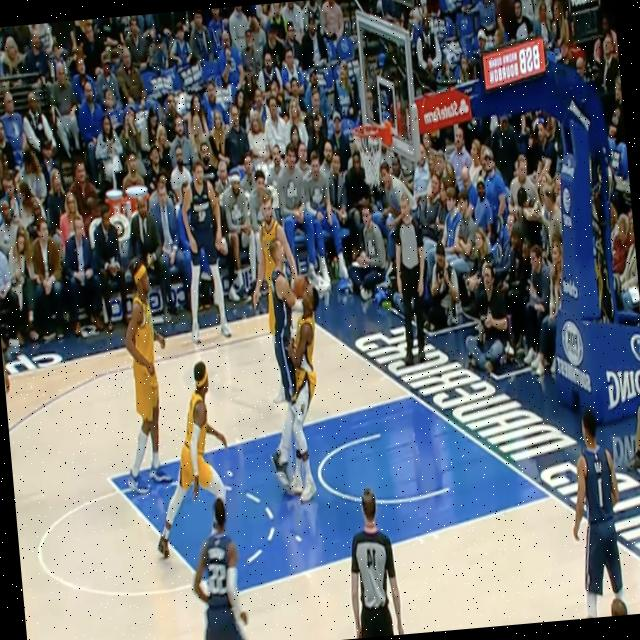Foul: (249, 238, 348, 508)
